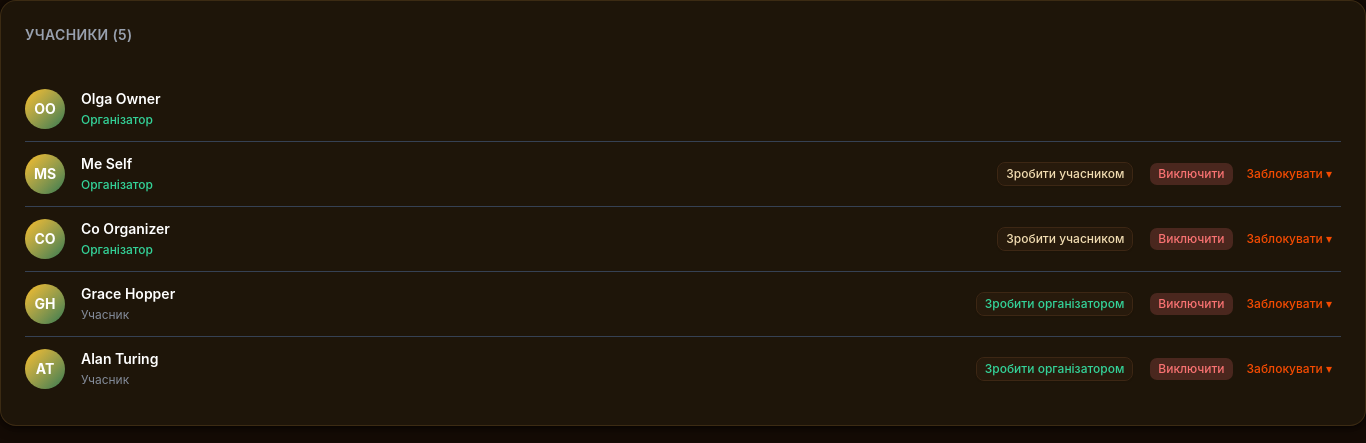
Test: MemberList with role controls › promotes a member and demotes an organizer through PATCH role
Expected: the text "Grace Hopper" is shown, [81,285,175,302]
Click the button "Зробити організатором" in the row of "GH": (1054, 304) [976,292,1133,316]
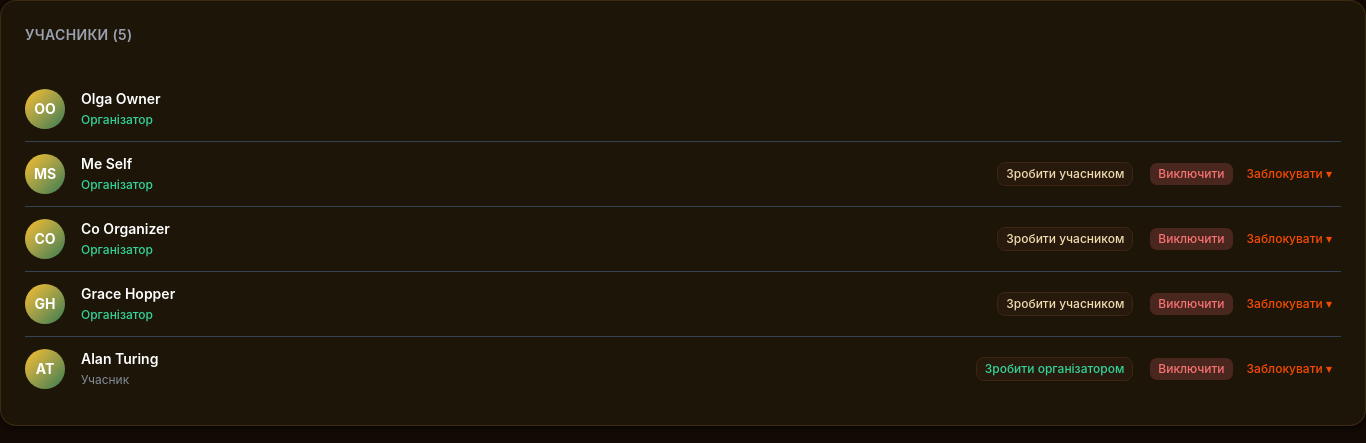
Expected: the button "Зробити учасником" in the row of "GH" is shown, [997,292,1133,316]
Click the button "Зробити учасником" in the row of "Co Organizer": (1065, 239) [997,227,1133,251]
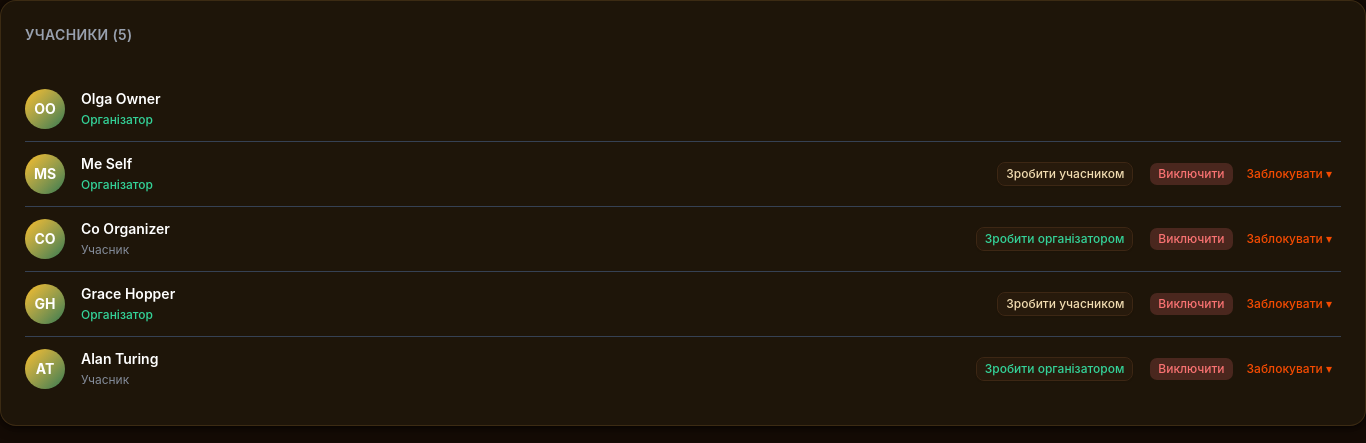
Expected: the button "Зробити організатором" in the row of "Co Organizer" is shown, [976,227,1133,251]
